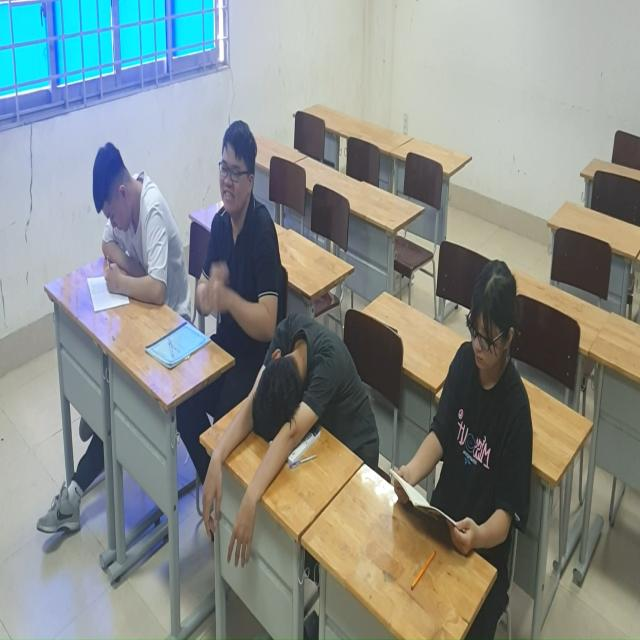read: (388, 258, 539, 550), (81, 133, 190, 334)
sleep: (200, 302, 381, 565)
